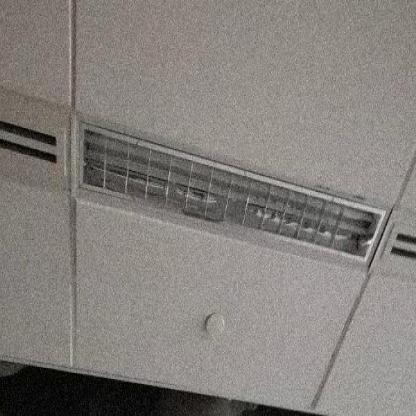light_off: (66, 98, 392, 272)
